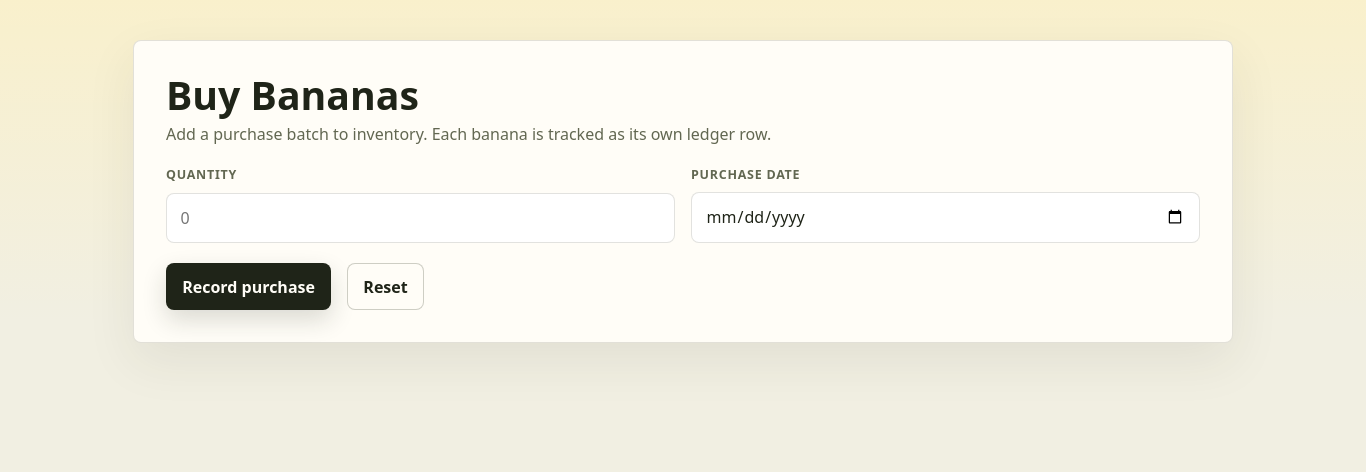
Scenario: Buy › blocks invalid dates and quantities
Step 1. Click the button "Record purchase" → (249, 286), box [166,263,331,310]
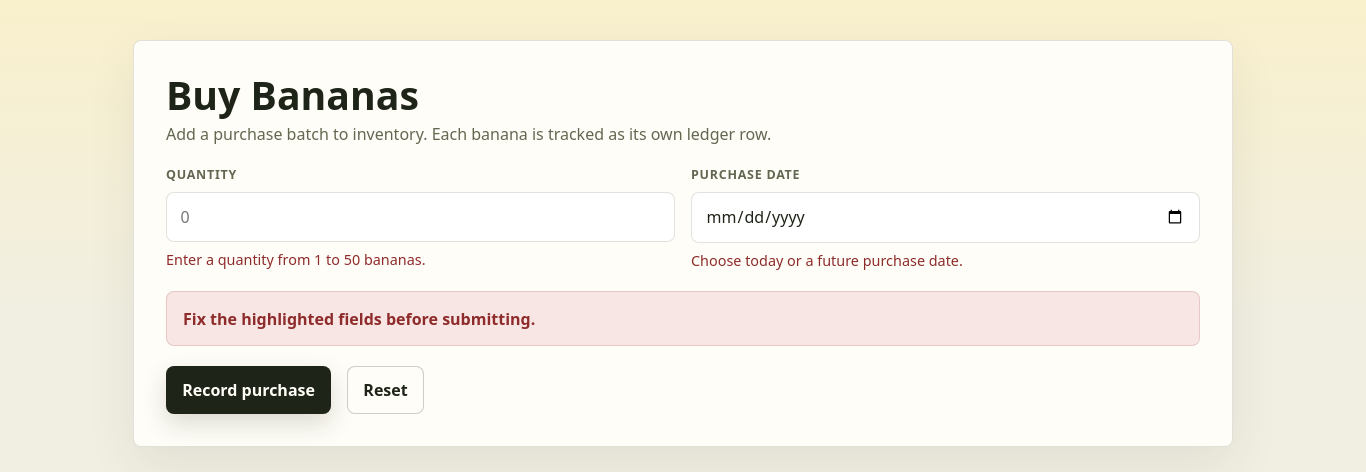
Check: the text "Fix the highlighted fields before submitting." is shown, box [166,291,1200,346]
Check: the text "Choose today or a future purchase date." is shown, box [691,251,963,270]
Check: the text "Enter a quantity from 1 to 50 bananas." is shown, box [166,250,426,269]
